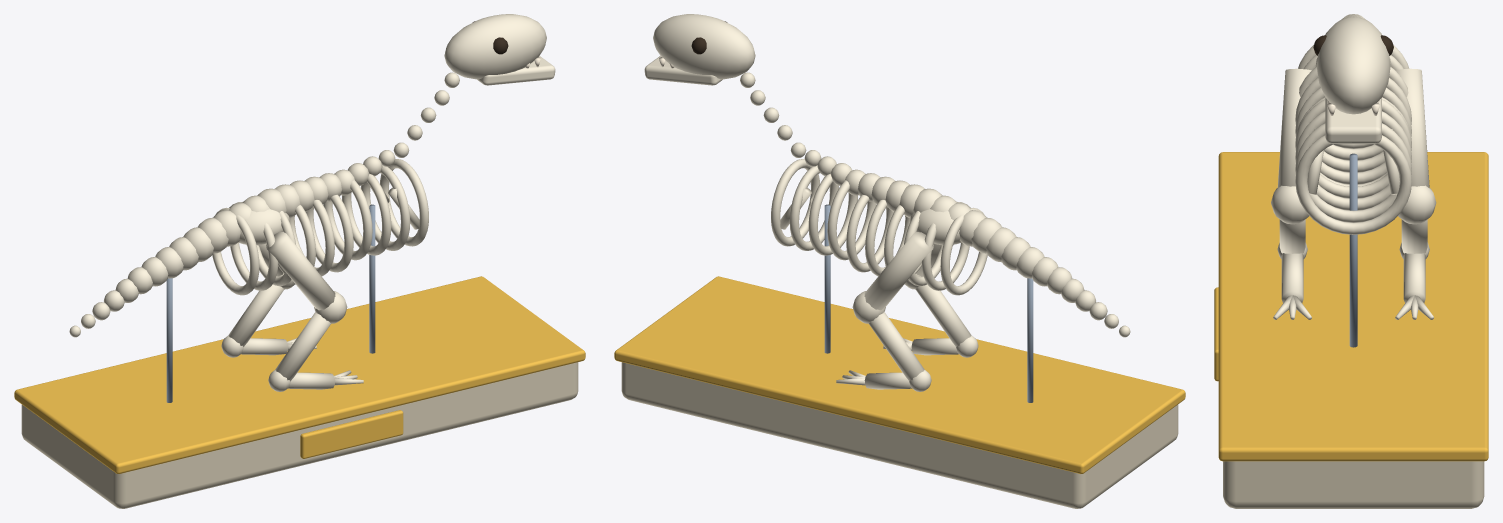
The model's file is skeleton.glb.
The picture shows the model from 3 angles, left to right: view 1: azimuth 30°, elevation 25°; view 2: azimuth 150°, elevation 25°; view 3: azimuth 270°, elevation 25°; orthographic projection. The views are drawn at different scales.
Parts seen in each view (by area): view 1: skeleton; view 2: skeleton; view 3: skeleton.
Boxes of the visible parts, x1=… form: skeleton: x1=14, y1=14, x2=585, y2=508; skeleton: x1=614, y1=14, x2=1185, y2=508; skeleton: x1=1214, y1=14, x2=1488, y2=508.
Bounding box in the file's own units: 3.32 × 2.34 × 1.26.
